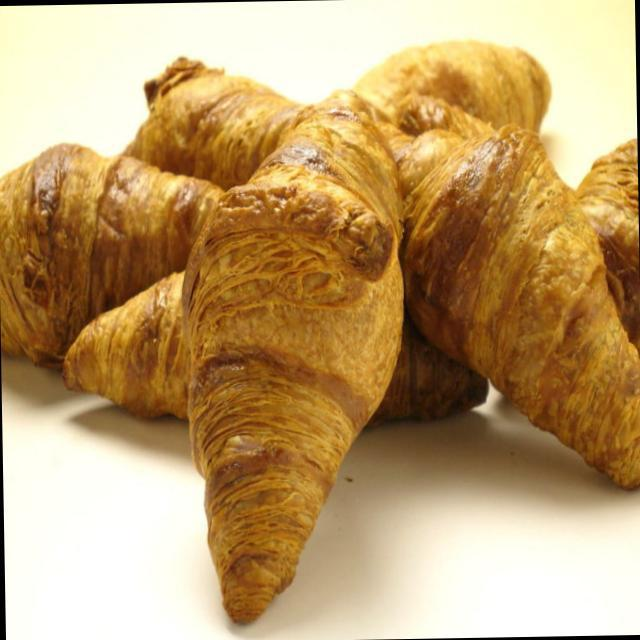Croissant: (170, 66, 425, 638)
